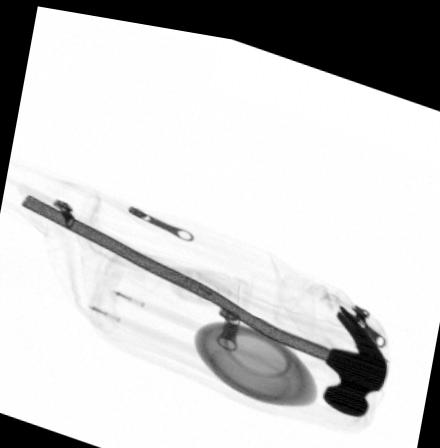Hammer: (19, 193, 387, 403)
